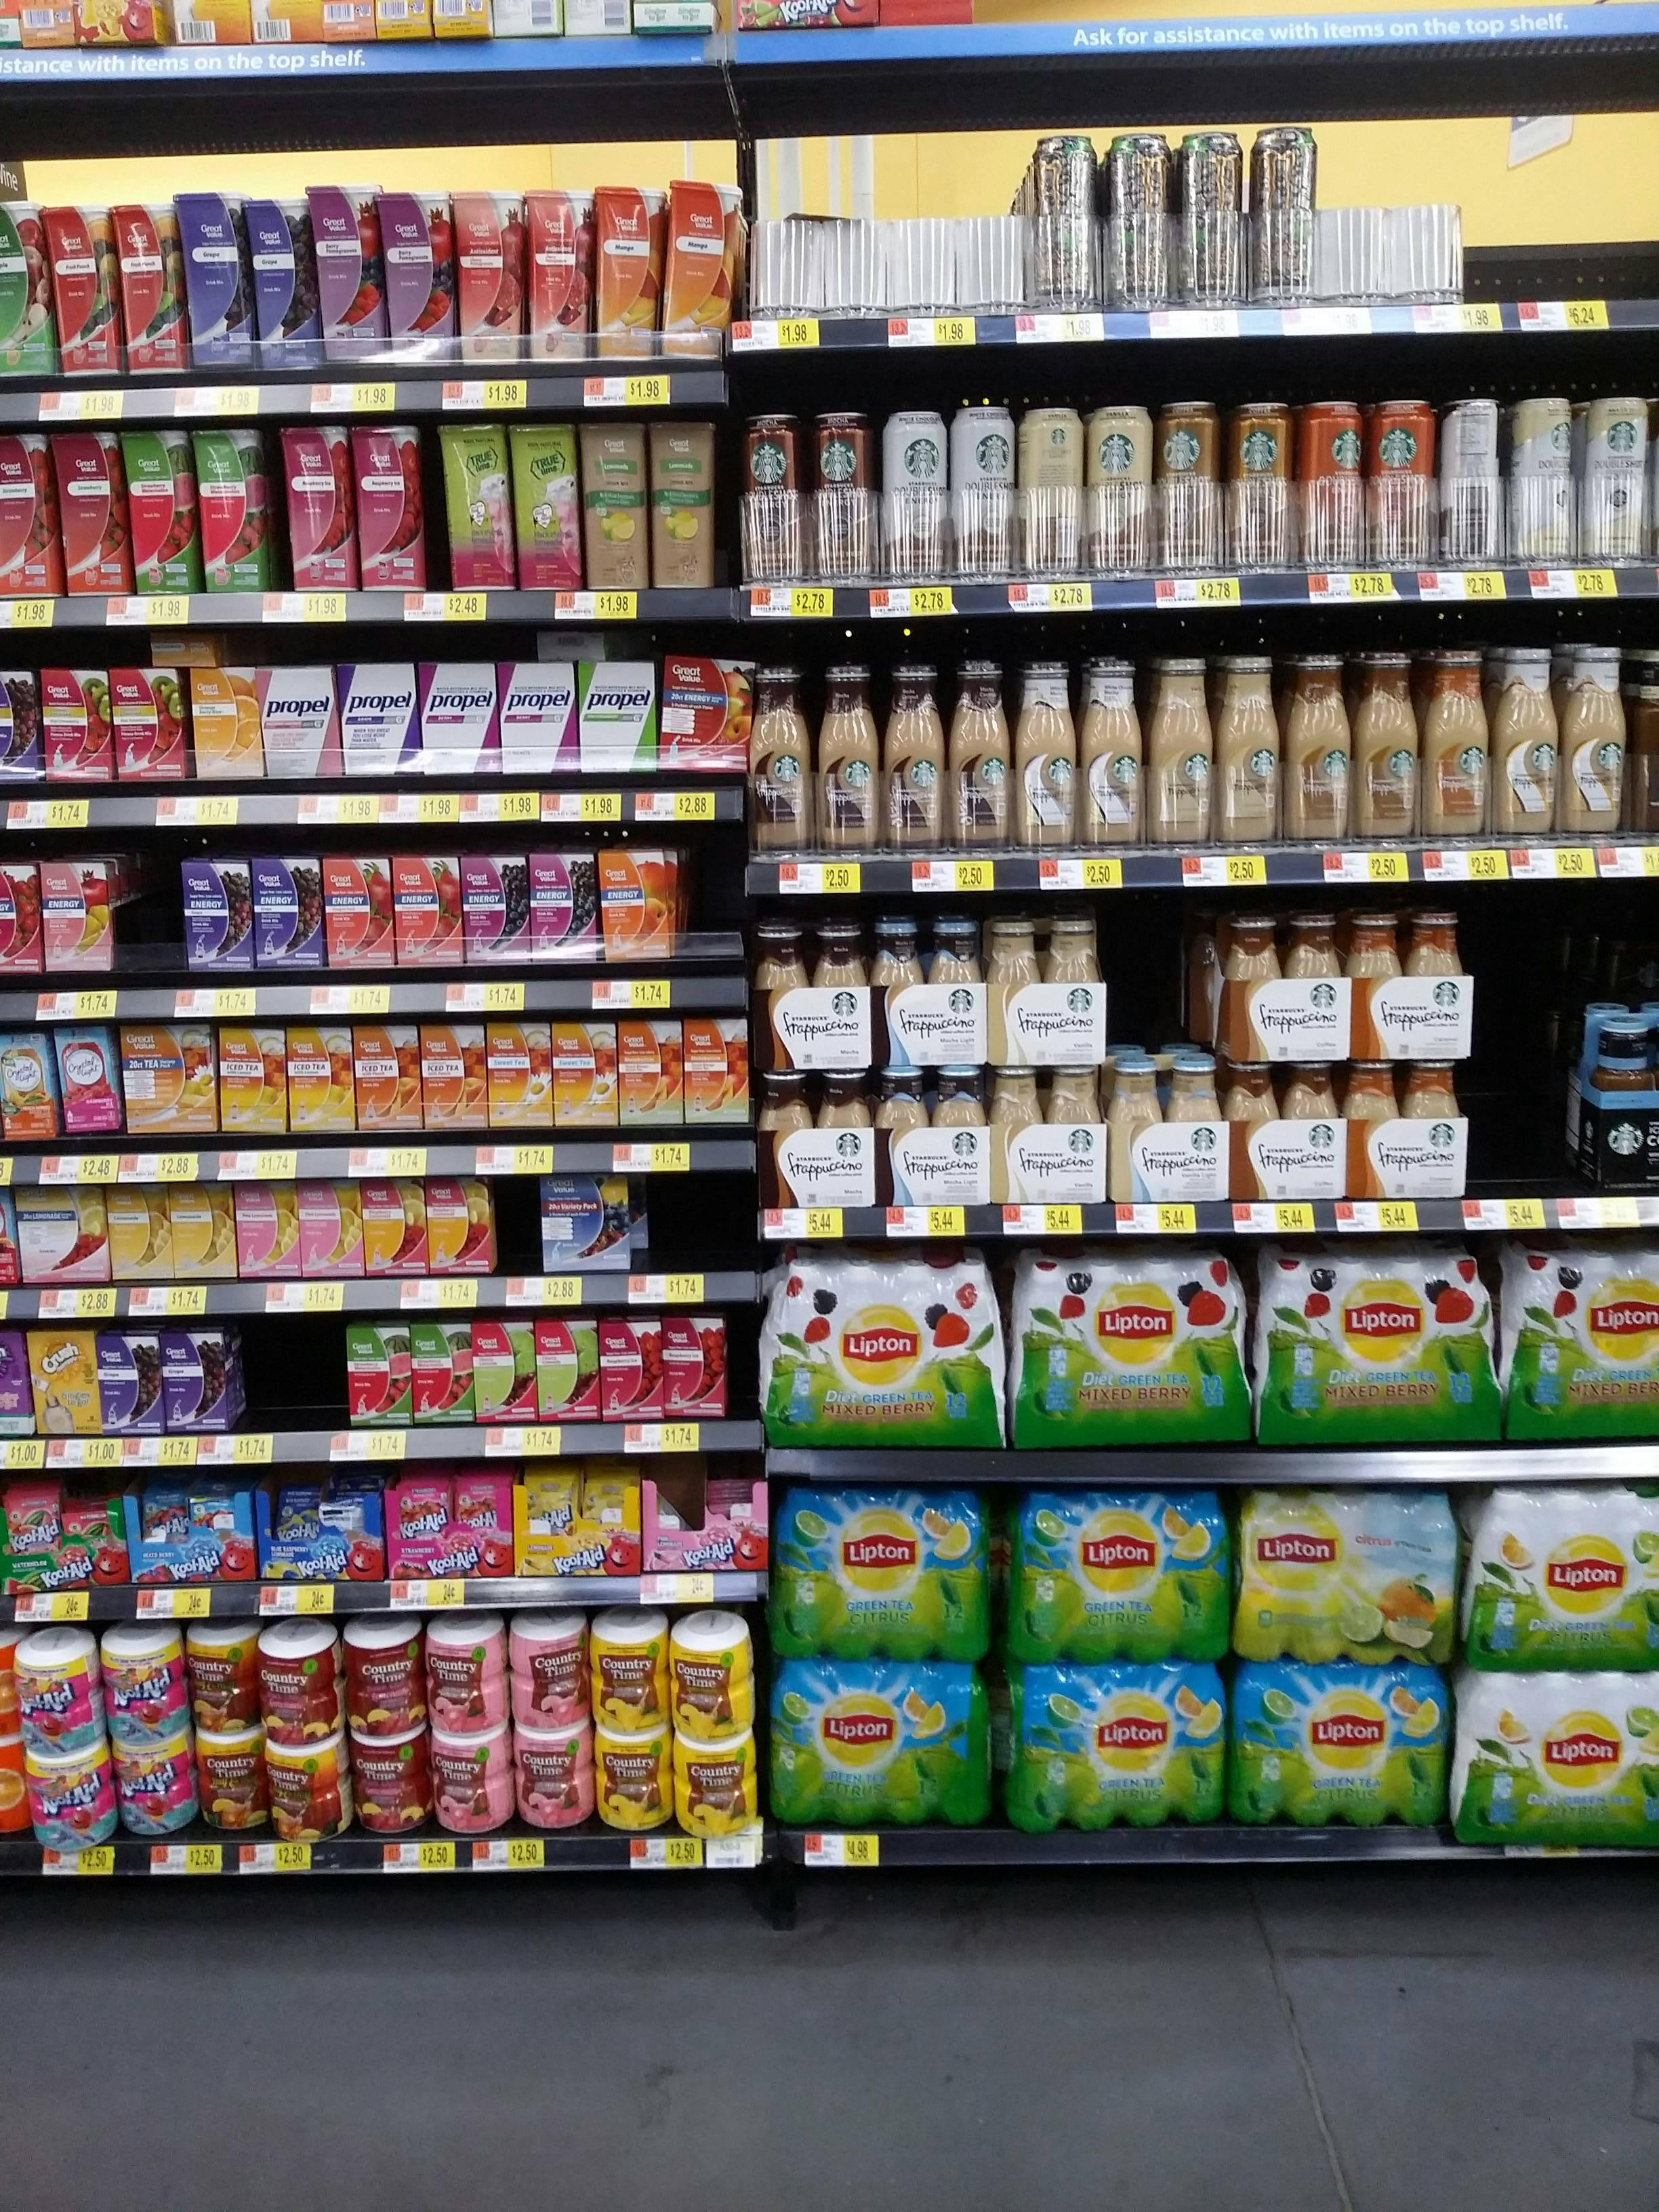empty: (1462, 153, 1659, 301), (1471, 972, 1582, 1191), (1112, 923, 1197, 1069), (237, 1329, 335, 1432), (653, 1174, 749, 1277), (117, 864, 178, 965), (680, 857, 741, 956), (720, 1318, 770, 1421), (495, 1174, 544, 1277)
